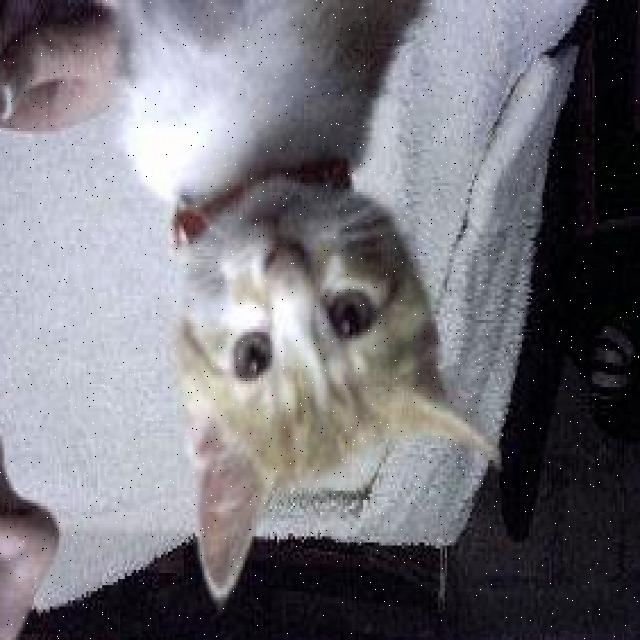Cat: (94, 79, 513, 572)
